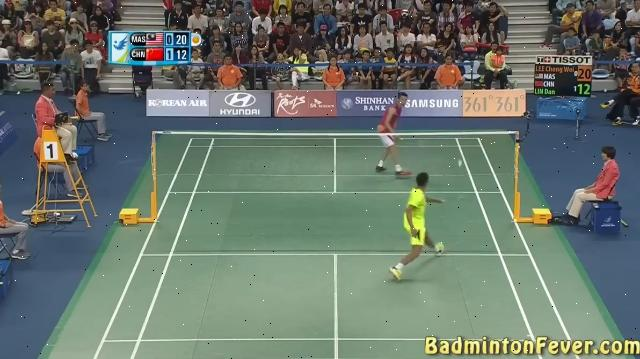Shuttlecock: (454, 156, 466, 168)
